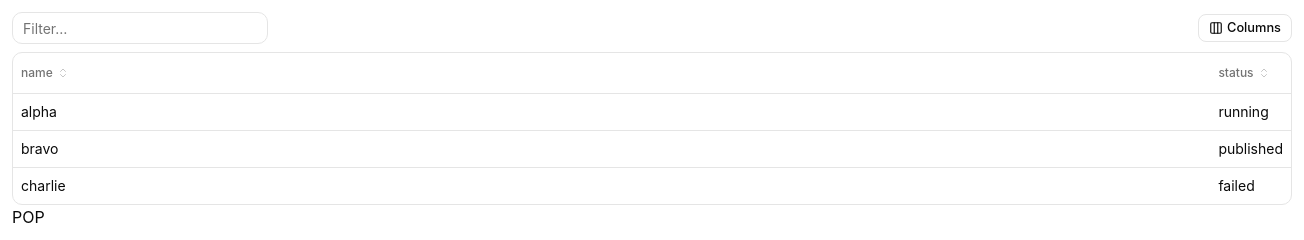
Test: DataTable › writes the text filter into the URL and applies it
This screenshot has width=1304, height=240.
Type "brav" into the field labelled "Filter…" at (140, 28), box [12,12,268,44]
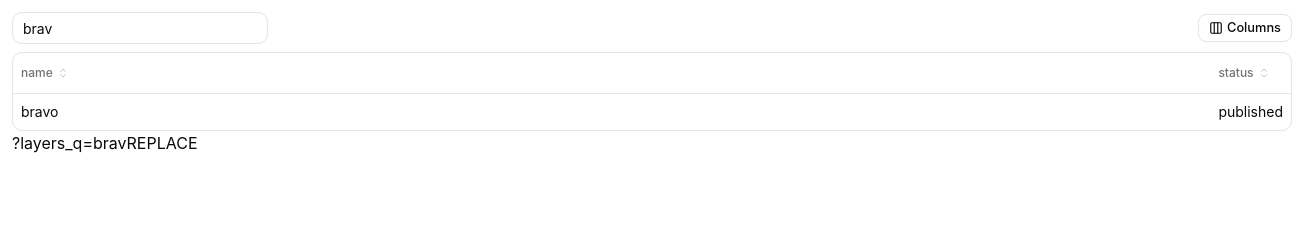
Expected: the text "bravo" is shown, [13,93,1210,130]
Now the text with test id "search" shows "layers_q=brav", box [12,132,126,152]
Now the text "alpha" is gone
